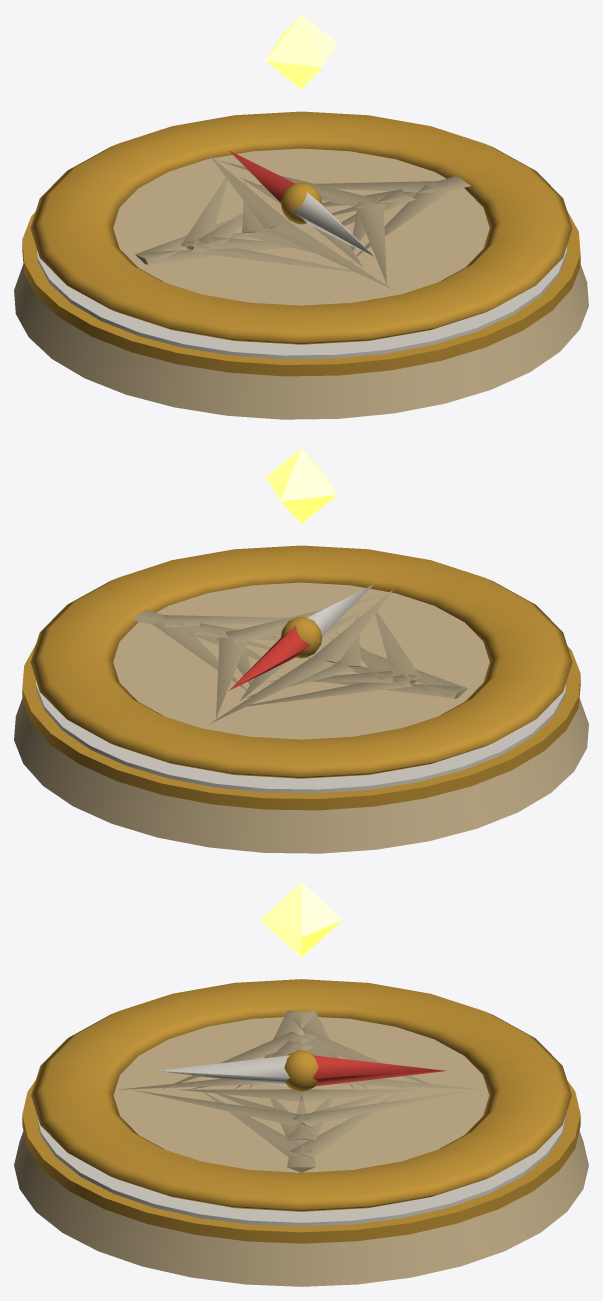
The model's file is travellersCompass.glb.
3 views of the same model, one above another, from view 1: azimuth 30°, elevation 25°; view 2: azimuth 150°, elevation 25°; view 3: azimuth 270°, elevation 25° (orthographic).
Parts seen in each view (by area): view 1: part_000, part_024, part_025, part_007, part_005, part_017, part_009, part_003, part_015, part_021, part_019, part_010 (+3 smaller); view 2: part_000, part_024, part_025, part_017, part_019, part_007, part_015, part_021, part_009, part_003, part_005, part_014 (+3 smaller); view 3: part_000, part_024, part_025, part_005, part_019, part_003, part_021, part_006, part_018, part_009, part_015, part_007 (+4 smaller).
Boxes of the visible parts, x1=… form: part_000: x1=14, y1=111, x2=588, y2=419; part_024: x1=229, y1=150, x2=373, y2=256; part_025: x1=265, y1=14, x2=337, y2=89; part_007: x1=267, y1=222, x2=392, y2=289; part_005: x1=355, y1=203, x2=386, y2=284; part_017: x1=209, y1=155, x2=291, y2=228; part_009: x1=190, y1=241, x2=370, y2=274; part_003: x1=356, y1=184, x2=450, y2=256; part_015: x1=181, y1=171, x2=230, y2=249; part_021: x1=259, y1=181, x2=438, y2=193; part_019: x1=218, y1=160, x2=377, y2=208; part_010: x1=209, y1=236, x2=333, y2=248; part_000: x1=14, y1=545, x2=588, y2=853; part_024: x1=229, y1=584, x2=373, y2=690; part_025: x1=265, y1=448, x2=337, y2=523; part_017: x1=210, y1=656, x2=335, y2=723; part_019: x1=216, y1=637, x2=247, y2=718; part_007: x1=311, y1=589, x2=393, y2=662; part_015: x1=232, y1=675, x2=412, y2=708; part_021: x1=152, y1=618, x2=246, y2=690; part_009: x1=372, y1=605, x2=421, y2=683; part_003: x1=164, y1=615, x2=343, y2=627; part_005: x1=225, y1=594, x2=384, y2=642; part_014: x1=269, y1=670, x2=393, y2=682; part_000: x1=14, y1=979, x2=588, y2=1286; part_024: x1=157, y1=1050, x2=445, y2=1091; part_025: x1=260, y1=882, x2=342, y2=957; part_005: x1=132, y1=1090, x2=306, y2=1126; part_019: x1=296, y1=1090, x2=470, y2=1126; part_003: x1=204, y1=1092, x2=313, y2=1157; part_021: x1=289, y1=1092, x2=398, y2=1157; part_006: x1=178, y1=1089, x2=302, y2=1101; part_018: x1=300, y1=1089, x2=424, y2=1101; part_009: x1=161, y1=1031, x2=310, y2=1089; part_015: x1=292, y1=1031, x2=441, y2=1089; part_007: x1=119, y1=1078, x2=265, y2=1089.
Size of the model in its own units: 5.52 by 3 by 5.52.
